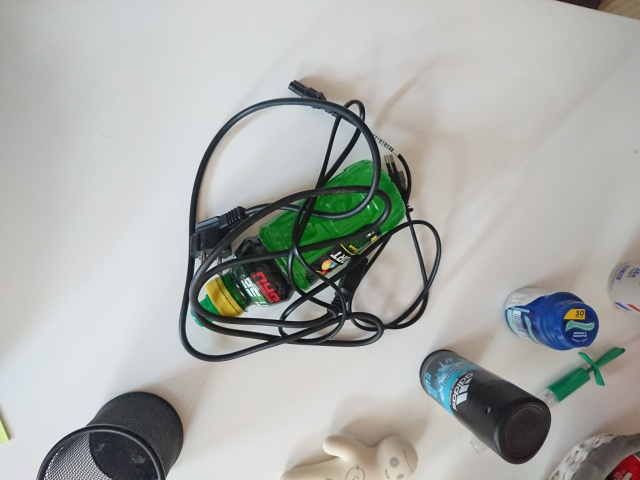Vindi Iso Sport Lemon-Grapefruit 500mL: (188, 157, 409, 330)
